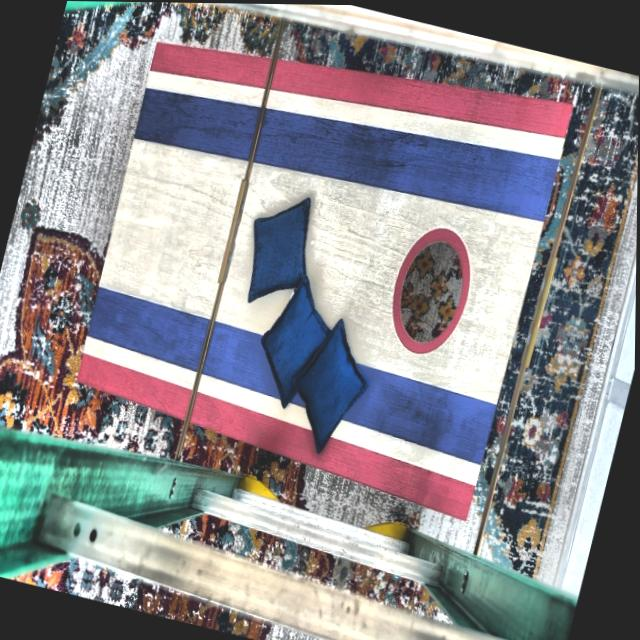blue-bean-bag: (277, 310, 381, 456), (247, 268, 342, 414), (235, 183, 323, 313)
board: (77, 41, 561, 478)
hole: (380, 215, 482, 359)
